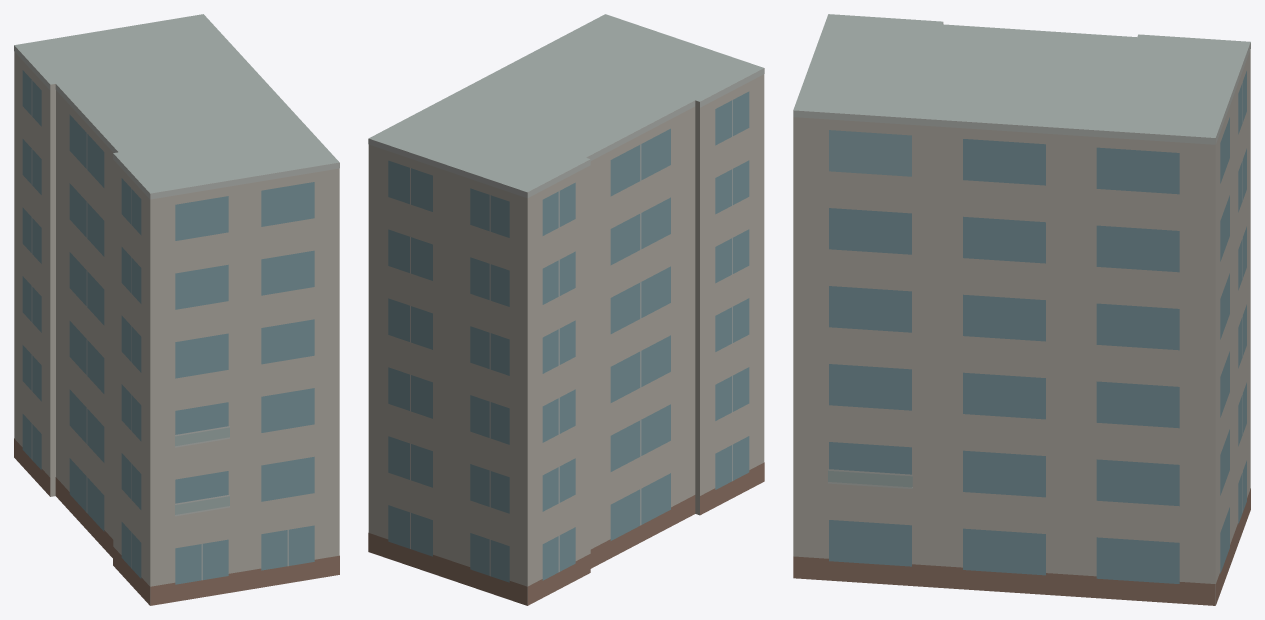
The model's file is survey-upis-32745026.glb.
3 renders of one model, left to right at view 1: azimuth 30°, elevation 25°; view 2: azimuth 150°, elevation 25°; view 3: azimuth 270°, elevation 25°, orthographic. The views are drawn at different scales.
Parts seen in each view (by area): view 1: survey-upis-32745026.tmp; view 2: survey-upis-32745026.tmp; view 3: survey-upis-32745026.tmp.
Part boxes in pixels (<box>): survey-upis-32745026.tmp: <box>14,14,339,605</box>; survey-upis-32745026.tmp: <box>368,14,764,605</box>; survey-upis-32745026.tmp: <box>793,14,1250,605</box>.
Size of the model in its own units: 9.65 by 16.94 by 15.03.
